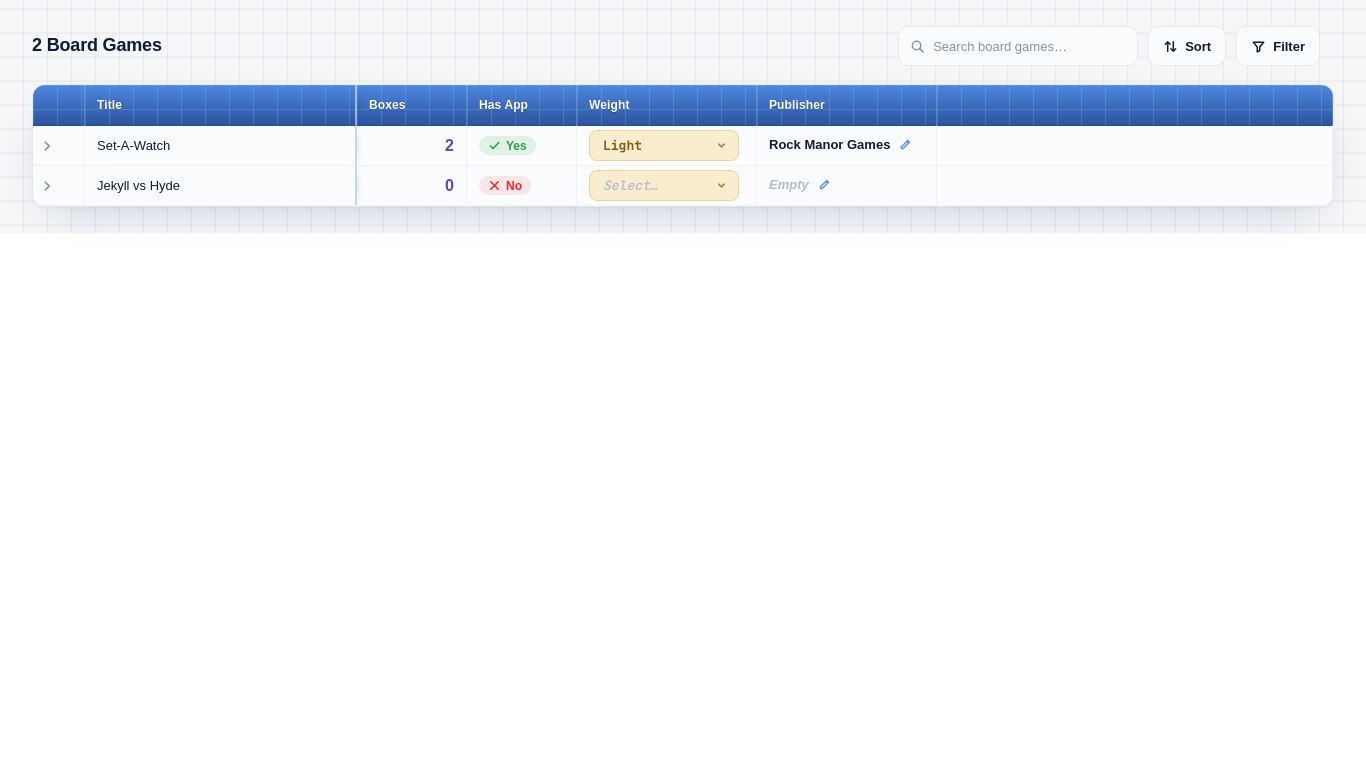
Test: BoardGamesManager › rolls back an optimistic edit when the PUT fails
Click the button "Set-A-Watch".
click(220, 146)  # box [91,135,349,156]
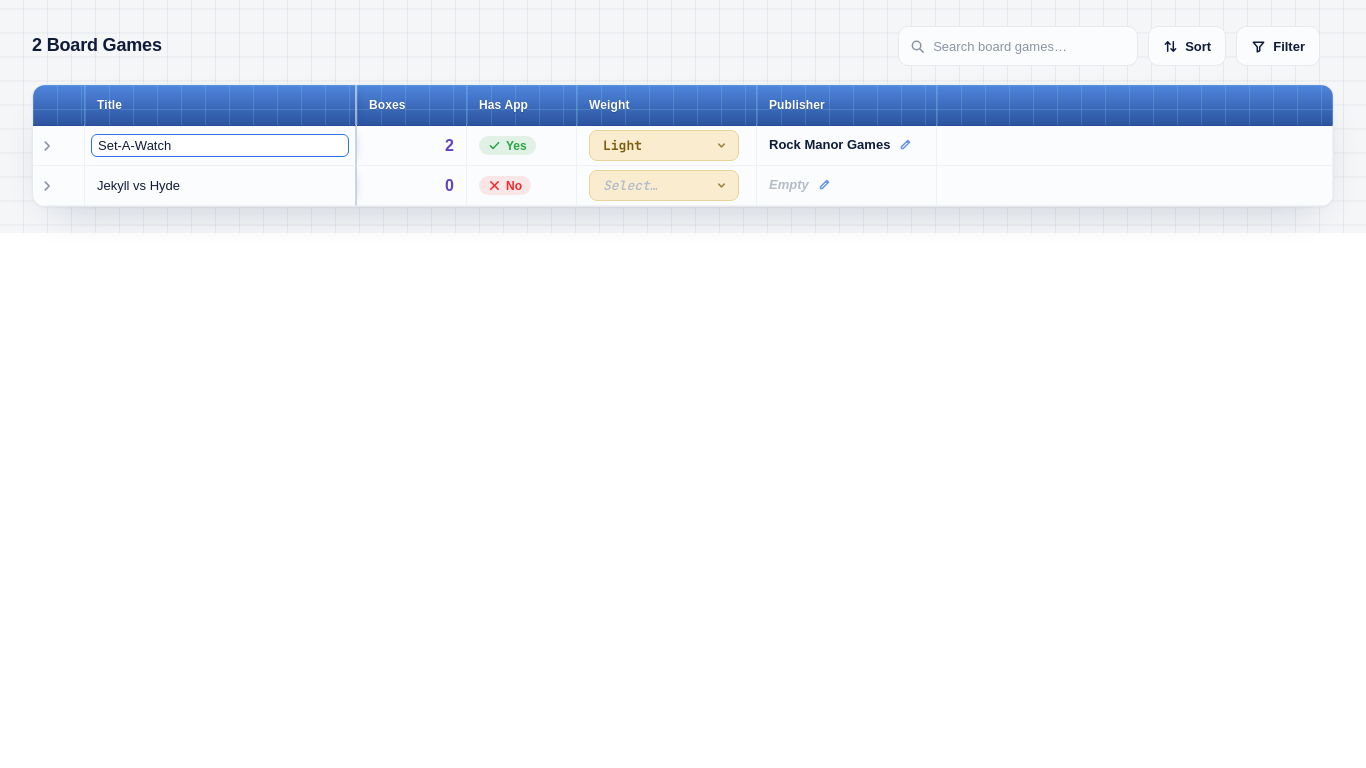
Replace the text in the field named "Title for Set-A-Watch" with "Doomed Edit" at (220, 146), box [91,134,349,157]
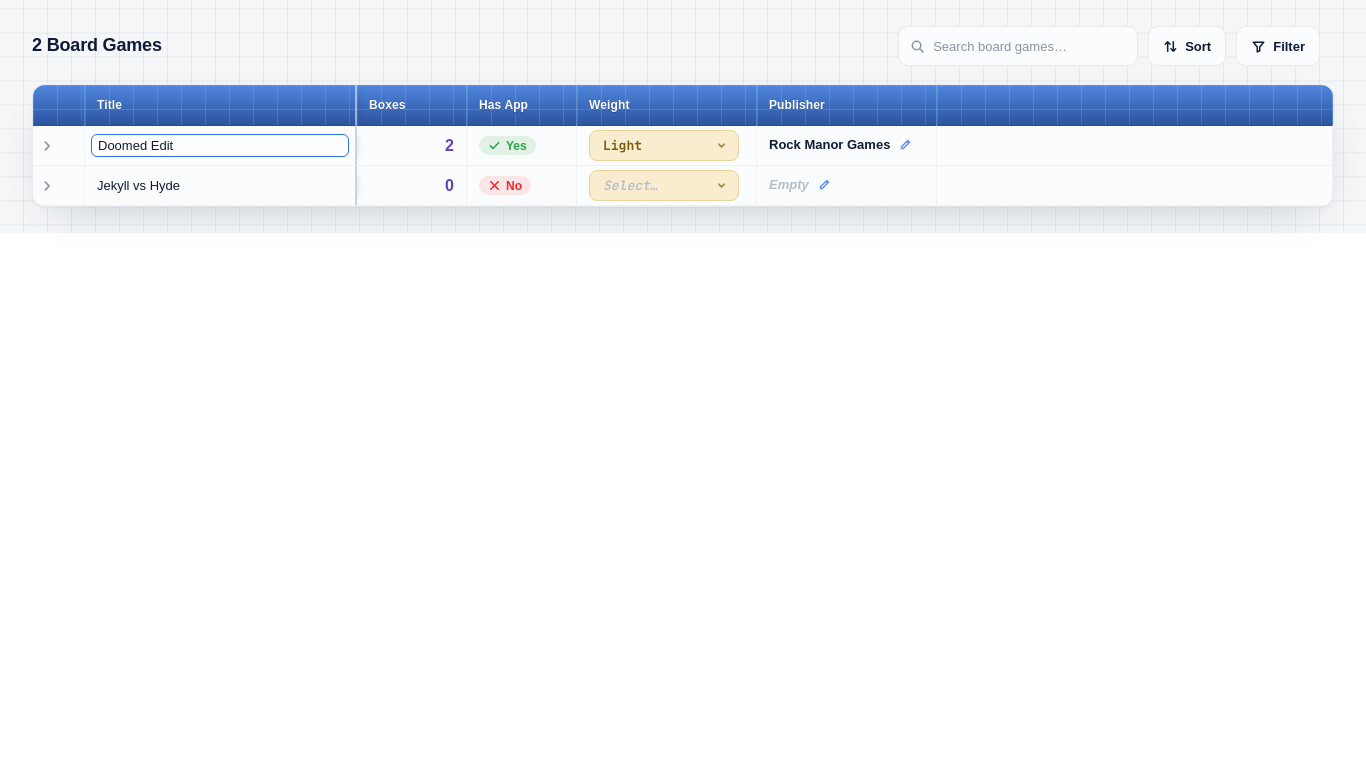
Press Enter in the field named "Title for Set-A-Watch", box [91,134,349,157]
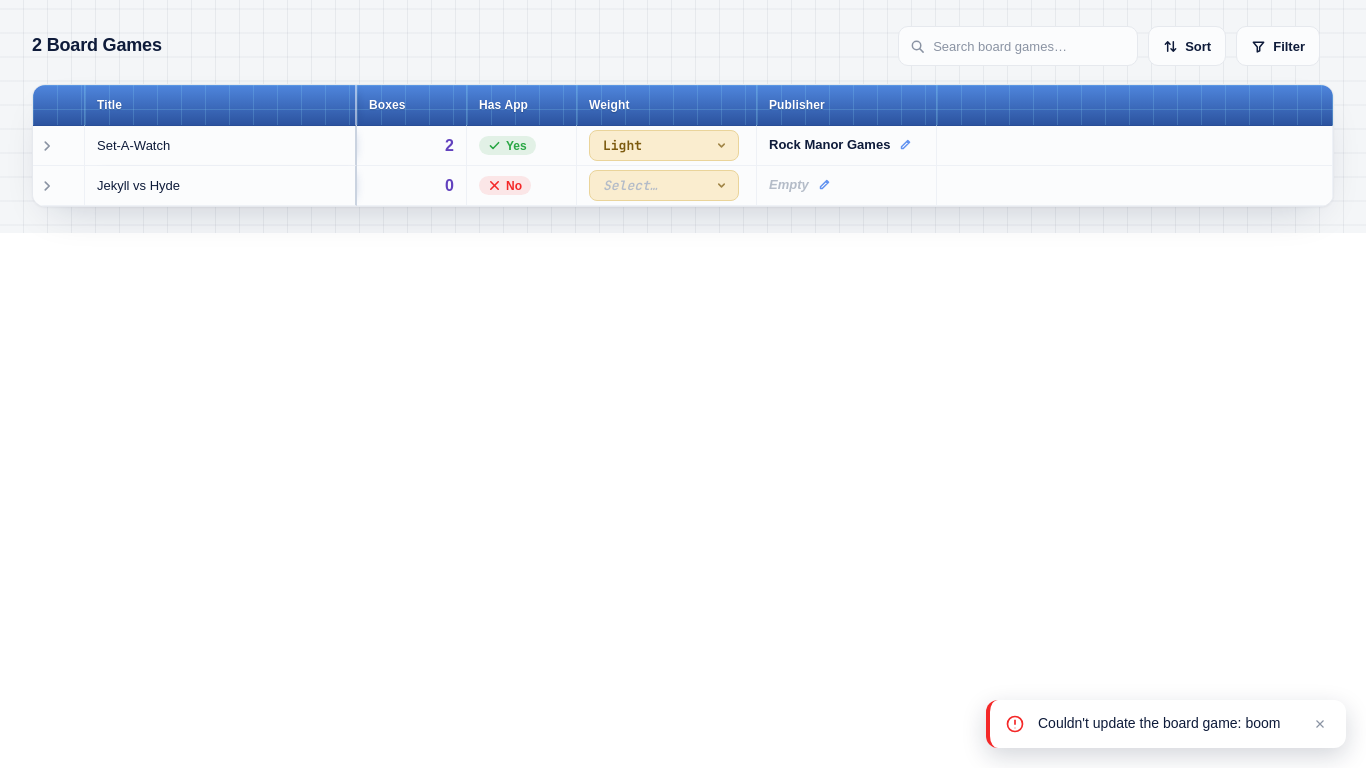
Check: the text "Doomed Edit" is not shown
Check: the button "Set-A-Watch" is shown, box [91,135,349,156]
